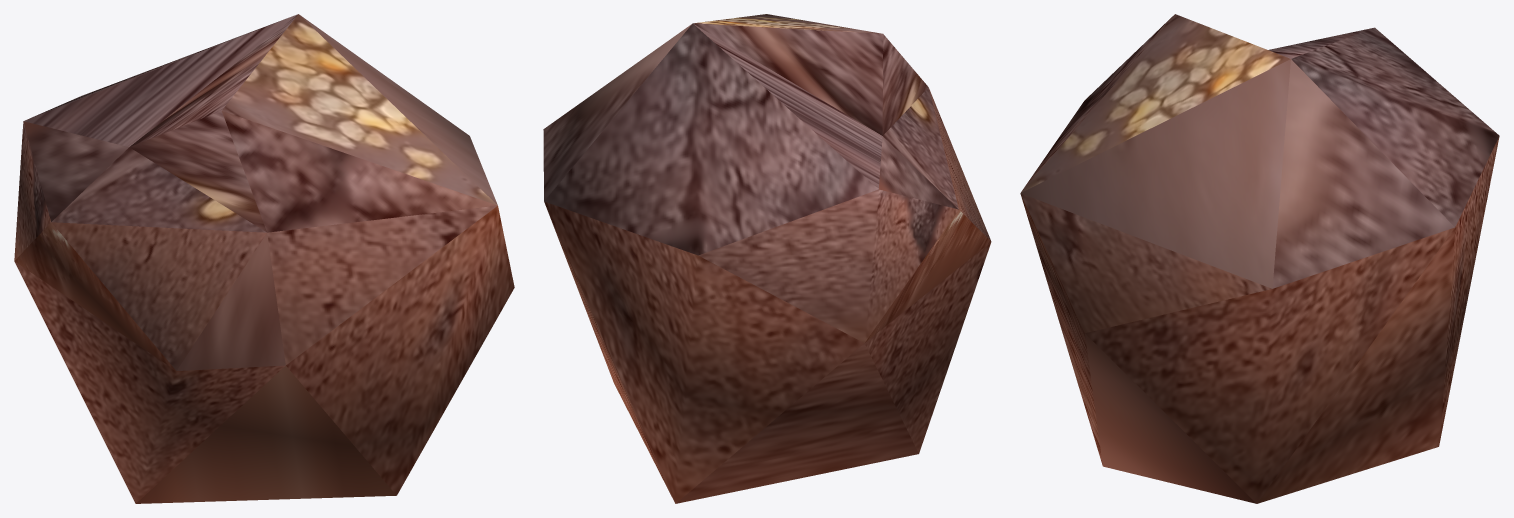
File: muffin_32.obj
The picture shows the model from 3 angles, left to right: view 1: azimuth 30°, elevation 25°; view 2: azimuth 150°, elevation 25°; view 3: azimuth 270°, elevation 25°; orthographic projection. The views are drawn at different scales.
Bounding box in the file's own units: 13.77 × 13.17 × 13.77.
Materials: 1 (1 with a texture image).
